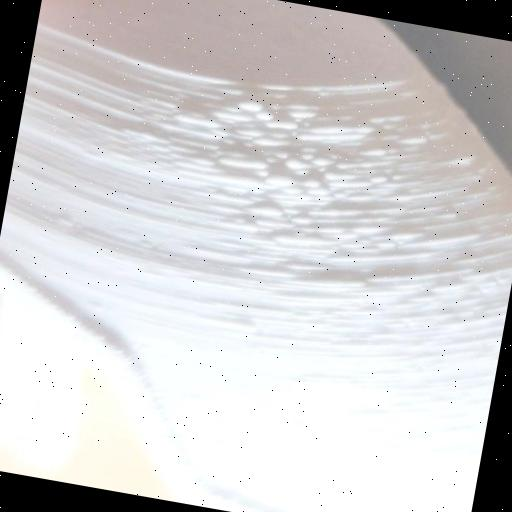blobs: (266, 168, 298, 194), (248, 106, 278, 131), (234, 95, 266, 117), (281, 152, 310, 176), (295, 172, 325, 194), (288, 207, 316, 230), (273, 114, 299, 138), (312, 150, 336, 174), (260, 198, 286, 220), (308, 182, 334, 200), (370, 172, 390, 190)
